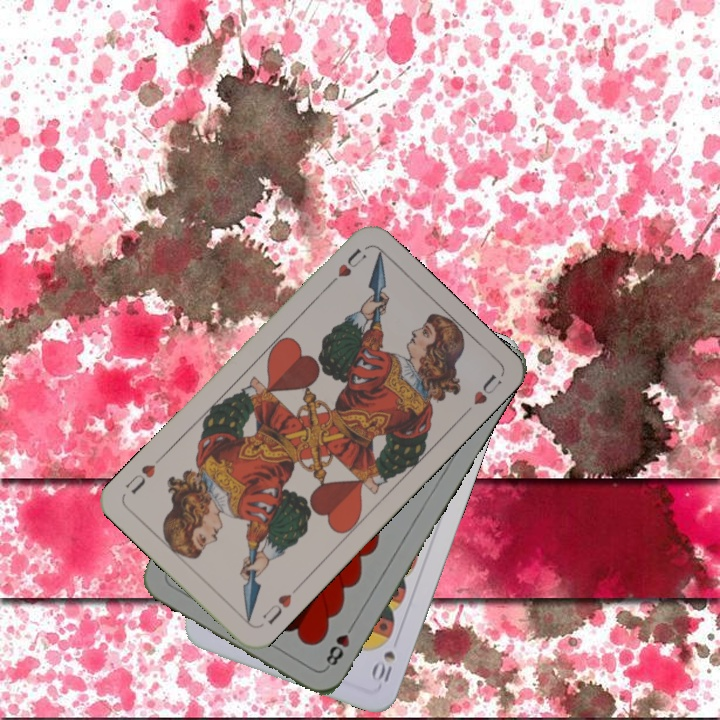H8: (321, 618, 358, 671)
HU: (322, 244, 369, 290), (258, 589, 295, 627)
S10: (367, 646, 398, 687)
